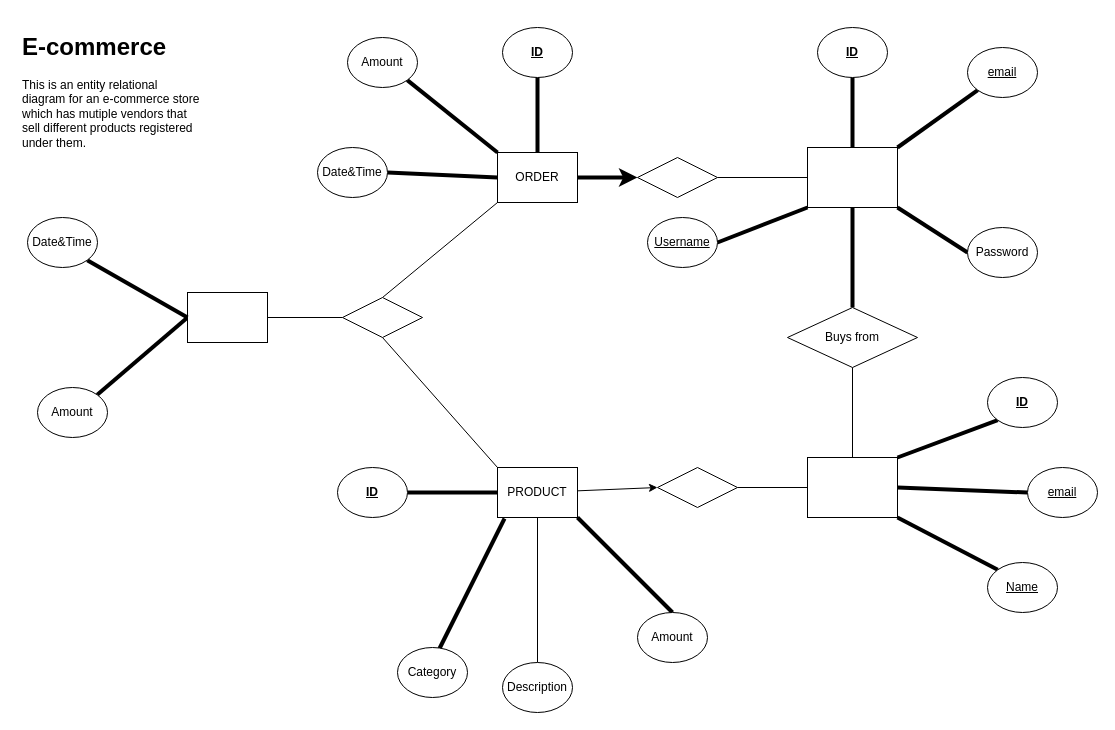
Image size: 1115x730. Some labels were removed from this diagram. Each missing label, with the centre of its shape:
"Belongs to" goes at [677,177].
"Contains" goes at [382,317].
"Has" goes at [697,487].
"ORDER & PRODUCT" goes at [227,317].
"USER" goes at [852,177].
"VENDOR" goes at [852,487].
